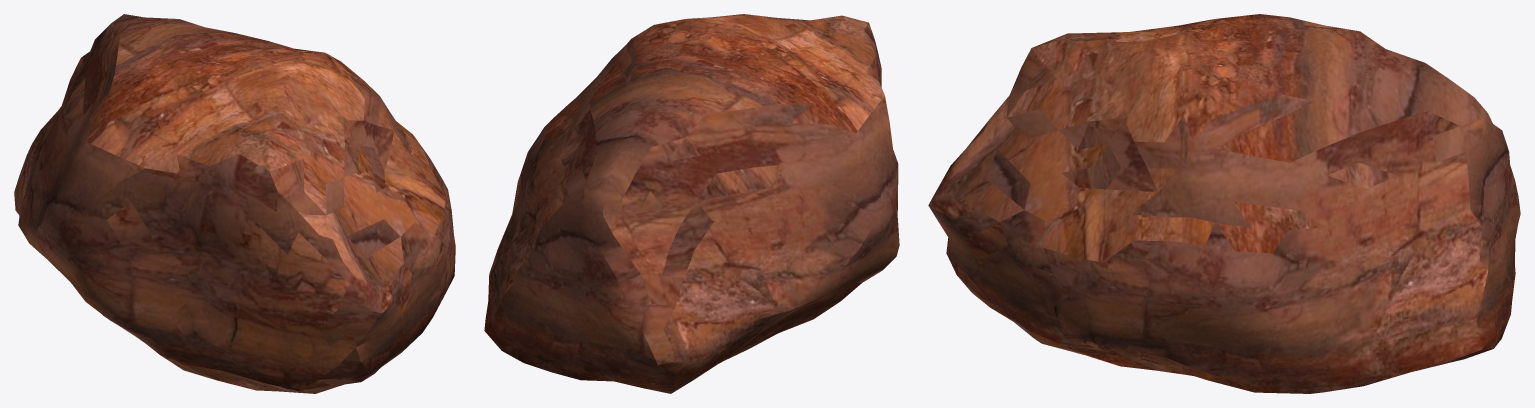
File: rock_03_red.glb
3 views of the same model, side by side, from view 1: azimuth 30°, elevation 25°; view 2: azimuth 150°, elevation 25°; view 3: azimuth 270°, elevation 25° (orthographic). The views are drawn at different scales.
Visible parts, largest first — view 1: rock_03_red; view 2: rock_03_red; view 3: rock_03_red.
Boxes of the visible parts, x1,y1,x2,y2 form: rock_03_red: [14, 14, 455, 393]; rock_03_red: [484, 14, 899, 393]; rock_03_red: [928, 14, 1520, 393].
Bounding box in the file's own units: 0.999 × 0.7216 × 1.35.
1 material, 1 textured.
